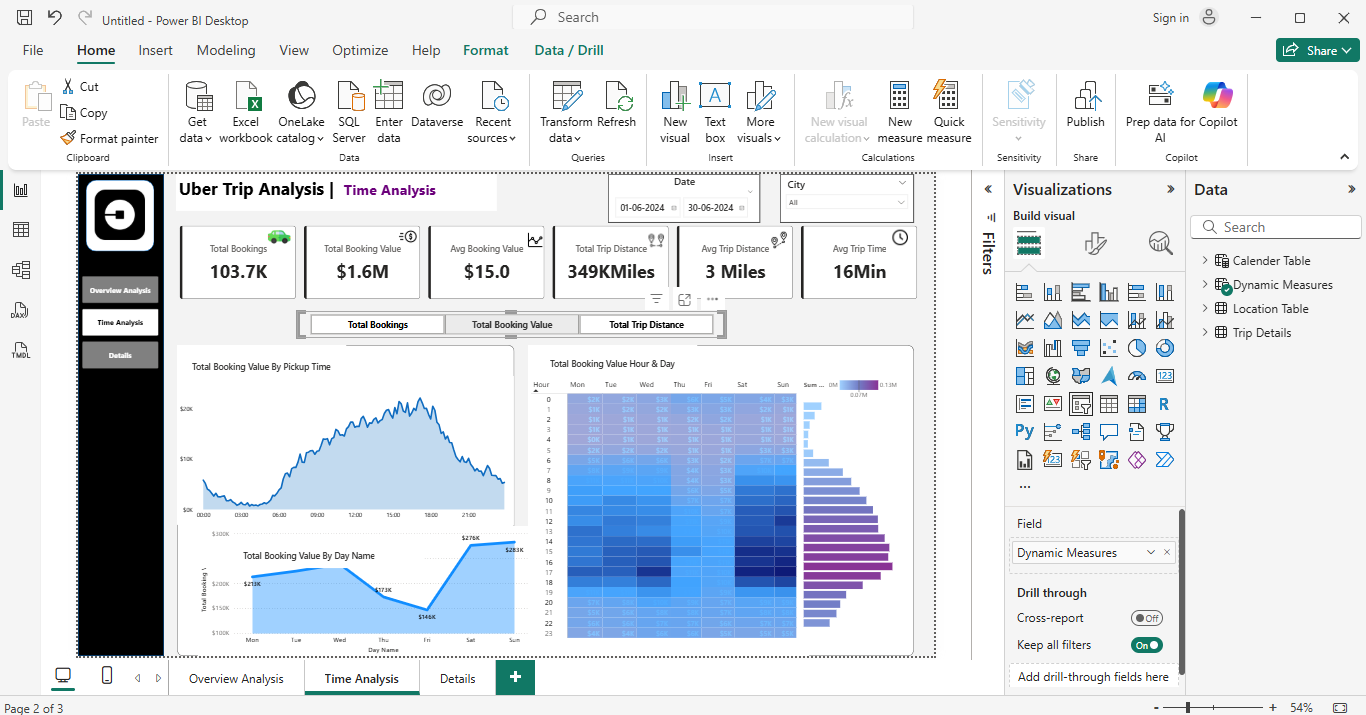

The page's visual inventory and layout, read from the dashboard file:
{"tool":"powerbi","page":{"name":"Time Analysis","canvas":[1600,900],"ordinal":1},"visuals":[{"type":"shape","box":[0,0,160.6,900],"z":0},{"type":"cardVisual","fields":{"Data":["Trip Details.Total Bookings","Trip Details.Total Booking Value","Trip Details.Avg Booking Value","Trip Details.Total Trip Distance","Trip Details.Avg Trip Distance","Trip Details.Avg Trip Time"]},"box":[184.9,91.5,1391.1,147.5],"z":1000},{"type":"textbox","box":[183,0,599.4,69.1],"z":2000},{"type":"image","box":[1051.2,104.6,56,39.2],"z":3000},{"type":"image","box":[586.3,95.2,59.8,42.9],"z":4000},{"type":"image","box":[1508.7,99,52.3,39.2],"z":5000},{"type":"shape","box":[184.9,319.3,630,581],"z":6000},{"type":"image","box":[1284.6,102.7,50.4,41.1],"z":7000},{"type":"image","box":[827.2,102.7,52.3,41.1],"z":8000},{"type":"image","box":[341.7,91.5,67.2,52.3],"z":9000},{"type":"slicer","fields":{"Values":["Dynamic Measures.Dynamic Measures"]},"box":[408.9,255.8,801,50.4],"z":10000},{"type":"slicer","title":"Date","fields":{"Values":["Calender Table.Date"]},"box":[989.6,0,283.8,91.5],"z":11000},{"type":"slicer","title":"City","fields":{"Values":["Location Table.City"]},"box":[1310.8,0,250.2,91.5],"z":12000},{"type":"areaChart","fields":{"Y":["Trip Details.Total Trip Distance Measure"],"Category":["Trip Details.Pickup Hour ( HH MM SS ) (bins)"]},"box":[184.9,377.2,629.3,278.2],"z":13000},{"type":"cardVisual","fields":{"Data":["Trip Details.Title  For Pickup Time"]},"box":[184.9,319.3,315.6,72.8],"z":14000},{"type":"areaChart","fields":{"Y":["Trip Details.Total Trip Distance Measure"],"Category":["Calender Table.Day Name"]},"box":[224.5,657.1,628.6,242.9],"z":15000},{"type":"cardVisual","fields":{"Data":["Trip Details.Title  For By Day Name"]},"box":[216.6,677.8,429.5,57.9],"z":16000},{"type":"shape","box":[840.2,319.3,720.7,581],"z":17000},{"type":"pivotTable","fields":{"Values":["Trip Details.Total Trip Distance Measure"],"Rows":["Trip Details.Pickup Hour"],"Columns":["Calender Table.Day Name"]},"box":[840.2,377.2,524.7,522.8],"z":18000},{"type":"barChart","fields":{"Y":["Trip Details.Total Trip Distance Measure"],"Category":["Trip Details.Pickup Hour"]},"box":[1350,377.2,211,491.1],"z":19000},{"type":"cardVisual","fields":{"Data":["Trip Details.Title  For Hour & Day"]},"box":[840.2,319.3,315.6,57.9],"z":20000},{"type":"group","id":"g1","title":"Group 1","box":[15.7,11.8,127.5,133.3],"z":21000},{"type":"pageNavigator","box":[7.8,190.2,143.1,174.5],"z":22000},{"type":"shape","box":[15.7,11.8,127.5,133.3],"z":32000,"group":"g1"},{"type":"image","box":[27.5,25.5,103.9,103.9],"z":33000,"group":"g1"}]}

Visuals, with their boxes on the page's 1600x900 design canvas (x1, y1, x2, y2). These are canvas units, not pixel positions in the 1366x715 screenshot, which may show the page scaled, cropped or inside an application window:
shape: x1=0, y1=0, x2=161, y2=900
cardVisual - Trip Details.Total Bookings x Trip Details.Total Booking Value: x1=185, y1=92, x2=1576, y2=239
textbox: x1=183, y1=0, x2=782, y2=69
image: x1=1051, y1=105, x2=1107, y2=144
image: x1=586, y1=95, x2=646, y2=138
image: x1=1509, y1=99, x2=1561, y2=138
shape: x1=185, y1=319, x2=815, y2=900
image: x1=1285, y1=103, x2=1335, y2=144
image: x1=827, y1=103, x2=880, y2=144
image: x1=342, y1=92, x2=409, y2=144
slicer - Dynamic Measures.Dynamic Measures: x1=409, y1=256, x2=1210, y2=306
"Date" slicer: x1=990, y1=0, x2=1273, y2=92
"City" slicer: x1=1311, y1=0, x2=1561, y2=92
areaChart - Trip Details.Total Trip Distance Measure x Trip Details.Pickup Hour ( HH MM SS ) (bins): x1=185, y1=377, x2=814, y2=655
cardVisual - Trip Details.Title  For Pickup Time: x1=185, y1=319, x2=500, y2=392
areaChart - Trip Details.Total Trip Distance Measure x Calender Table.Day Name: x1=224, y1=657, x2=853, y2=900
cardVisual - Trip Details.Title  For By Day Name: x1=217, y1=678, x2=646, y2=736
shape: x1=840, y1=319, x2=1561, y2=900
pivotTable - Trip Details.Total Trip Distance Measure x Trip Details.Pickup Hour: x1=840, y1=377, x2=1365, y2=900
barChart - Trip Details.Total Trip Distance Measure x Trip Details.Pickup Hour: x1=1350, y1=377, x2=1561, y2=868
cardVisual - Trip Details.Title  For Hour & Day: x1=840, y1=319, x2=1156, y2=377
"Group 1" group: x1=16, y1=12, x2=143, y2=145
pageNavigator: x1=8, y1=190, x2=151, y2=365
shape: x1=16, y1=12, x2=143, y2=145
image: x1=28, y1=26, x2=131, y2=129
